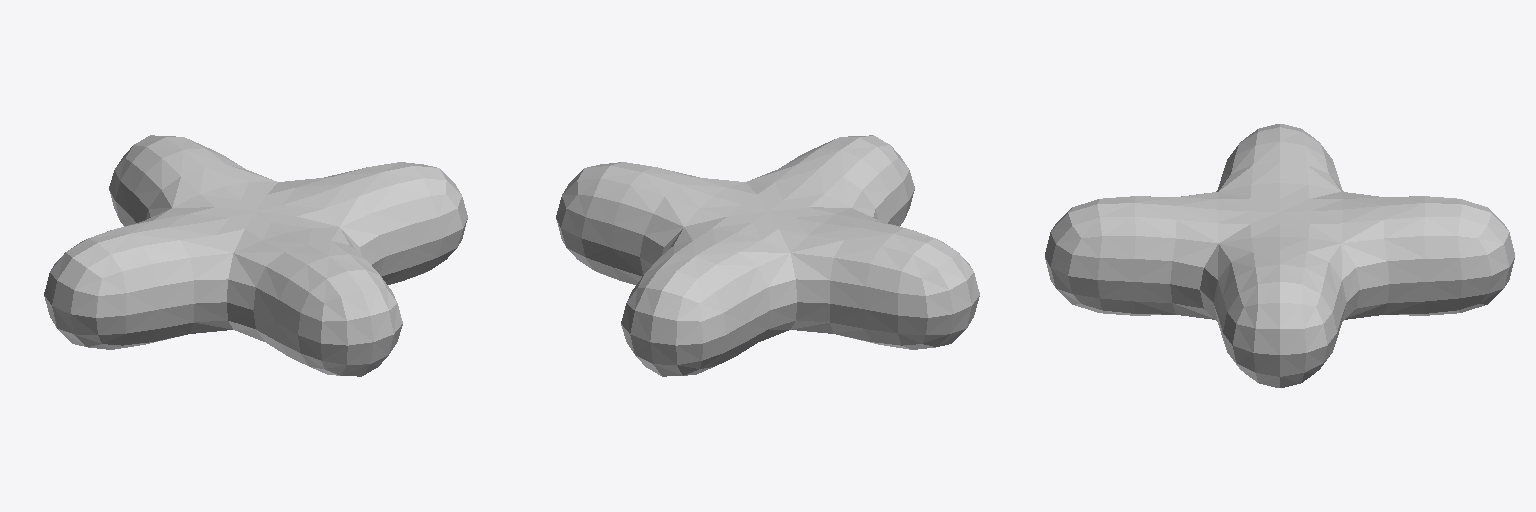
Rendered from powerup.obj.
3 views of the same model, side by side, from view 1: azimuth 30°, elevation 25°; view 2: azimuth 150°, elevation 25°; view 3: azimuth 270°, elevation 25° (orthographic).
Visible parts, largest first — view 1: powerup; view 2: powerup; view 3: powerup.
Boxes of the visible parts, <box> form: powerup: <box>44,135,467,376</box>; powerup: <box>556,135,979,376</box>; powerup: <box>1045,124,1514,387</box>.
Bounding box in the file's own units: 1.85 × 0.4598 × 1.85.